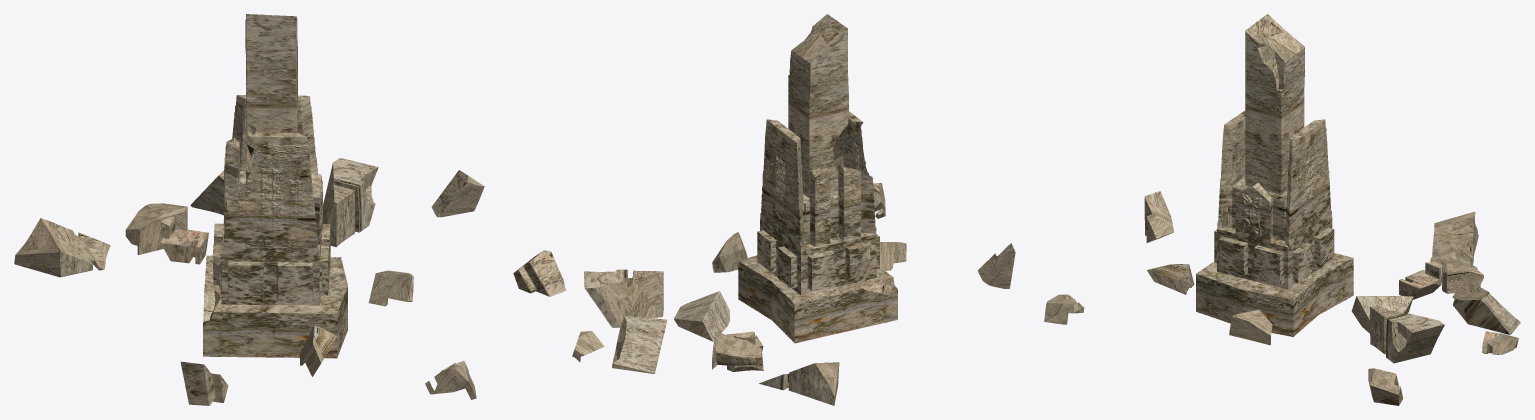
The model's file is pillar_debris-transformed.glb.
3 views of the same model, side by side, from view 1: azimuth 30°, elevation 25°; view 2: azimuth 150°, elevation 25°; view 3: azimuth 270°, elevation 25° (orthographic). The views are drawn at different scales.
Parts seen in each view (by area): view 1: Object_7; view 2: Object_7; view 3: Object_7.
Boxes of the visible parts, <box> form: Object_7: <box>14,14,484,405</box>; Object_7: <box>513,14,1015,405</box>; Object_7: <box>1044,14,1520,405</box>.
Size of the model in its own units: 9.84 by 7.04 by 10.97.
Materials: 1 (1 with a texture image).
